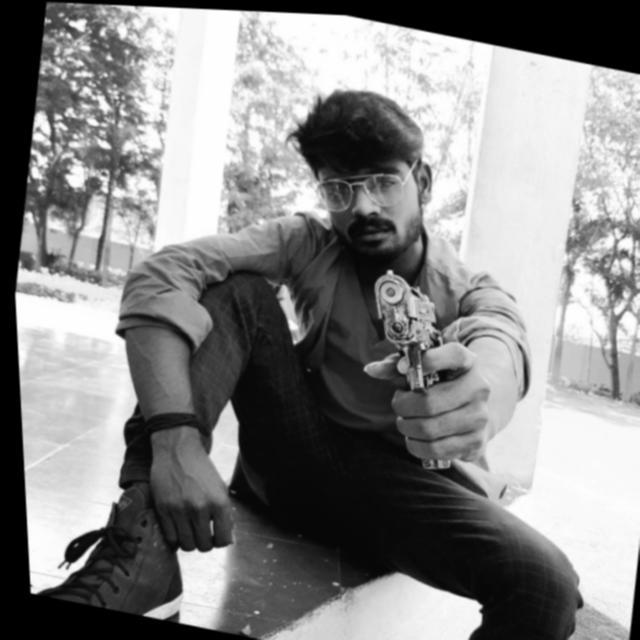weapon: (338, 256, 483, 479)
